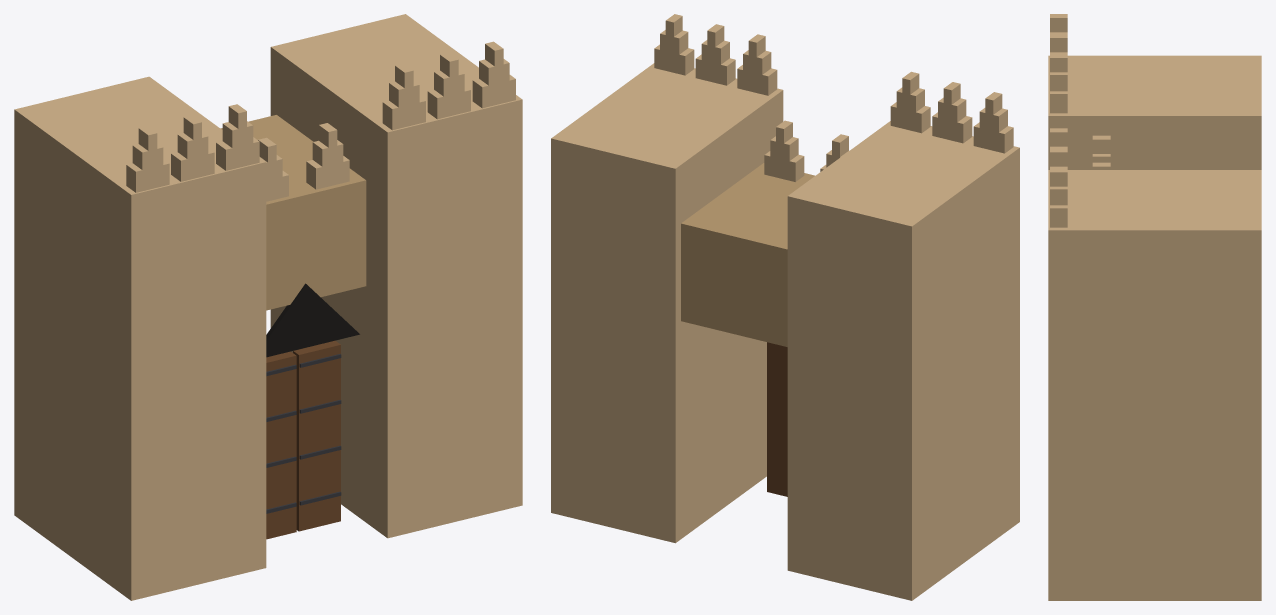
Rendered from gate.glb.
3 views of the same model, side by side, from view 1: azimuth 30°, elevation 25°; view 2: azimuth 150°, elevation 25°; view 3: azimuth 270°, elevation 25° (orthographic). The views are drawn at different scales.
Parts seen in each view (by area): view 1: Gate; view 2: Gate; view 3: Gate.
Part boxes in pixels (bbox=[...]): Gate: bbox=[14, 14, 522, 600]; Gate: bbox=[551, 14, 1019, 600]; Gate: bbox=[1048, 14, 1261, 600].
Bounding box in the file's own units: 11.6 × 13.05 × 6.
